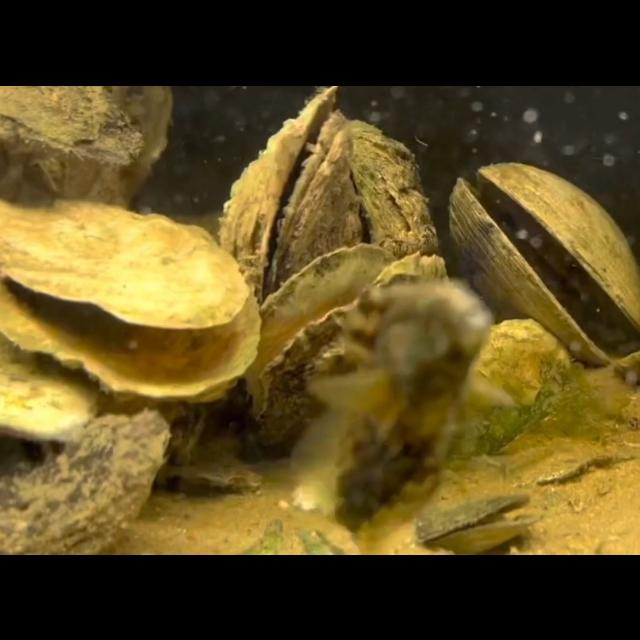Oyster-Closed: (0, 409, 172, 555), (415, 316, 573, 468), (344, 116, 438, 258), (0, 85, 146, 167), (0, 328, 104, 441)
Oyster-Open: (0, 196, 264, 399), (448, 160, 640, 368), (246, 240, 458, 420), (216, 85, 354, 295), (408, 488, 548, 554), (153, 437, 267, 498)
